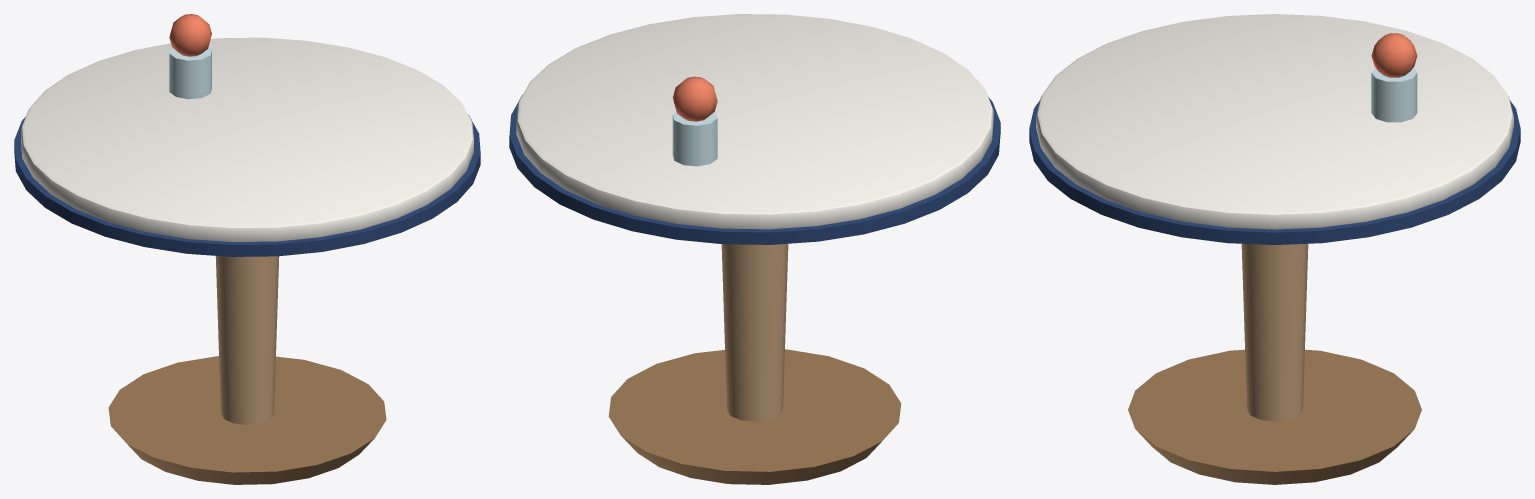
The model's file is b_table.gltf.
3 views of the same model, side by side, from view 1: azimuth 30°, elevation 25°; view 2: azimuth 150°, elevation 25°; view 3: azimuth 270°, elevation 25° (orthographic). The views are drawn at different scales.
Visible parts, largest first — view 1: b_table; view 2: b_table; view 3: b_table.
Part boxes in pixels (x1,y1,x2,y2): b_table: (14,14,480,484); b_table: (509,14,1000,484); b_table: (1029,14,1520,484).
Bounding box in the file's own units: 1.07 × 0.95 × 1.07.
Materials: 1 (1 with a texture image).
